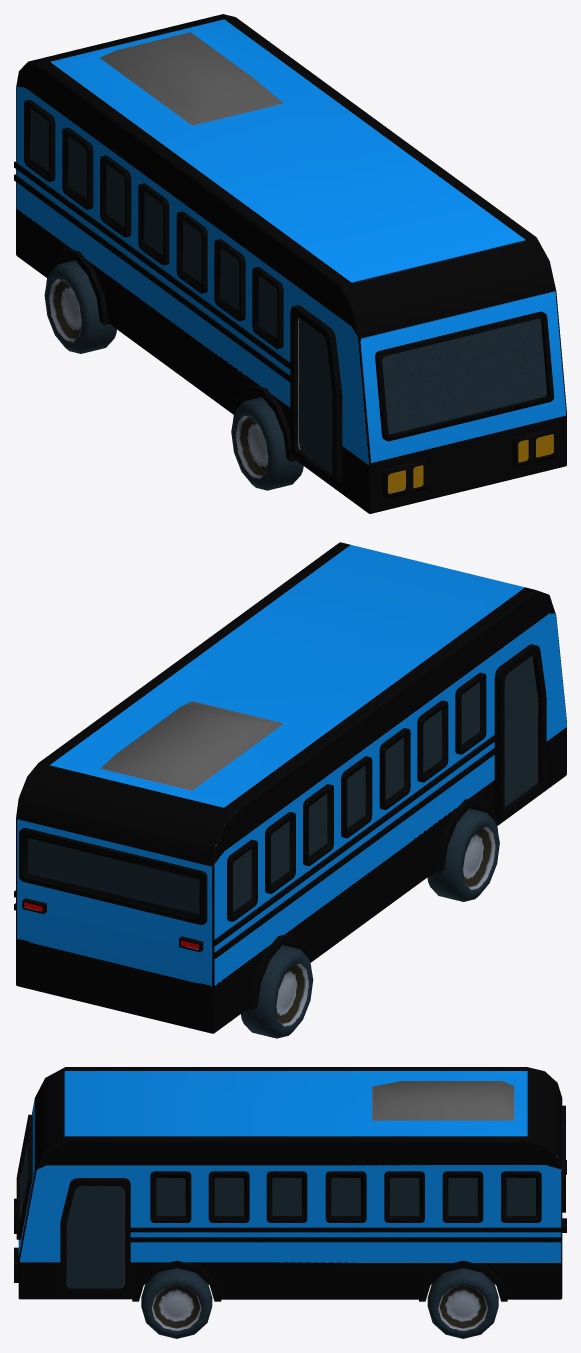
The model's file is Bus_02.fbx.
The picture shows the model from 3 angles, top to bottom: view 1: azimuth 30°, elevation 25°; view 2: azimuth 150°, elevation 25°; view 3: azimuth 270°, elevation 25°; orthographic projection. The views are drawn at different scales.
Visible parts, largest first — view 1: Bus, Wheel_02.001, Wheel_04.001; view 2: Bus, Wheel_04.001, Wheel_02.001; view 3: Bus, Wheel_03.001, Wheel_01.001.
Part boxes in pixels (<box>): Bus: <box>14,14,566,513</box>; Wheel_02.001: <box>231,397,303,490</box>; Wheel_04.001: <box>44,260,116,353</box>; Bus: <box>14,542,566,1033</box>; Wheel_04.001: <box>240,945,313,1038</box>; Wheel_02.001: <box>427,808,499,901</box>; Bus: <box>14,1067,566,1301</box>; Wheel_03.001: <box>427,1268,498,1338</box>; Wheel_01.001: <box>141,1268,212,1338</box>.
Bounding box in the file's own units: 301 × 335 × 826.
